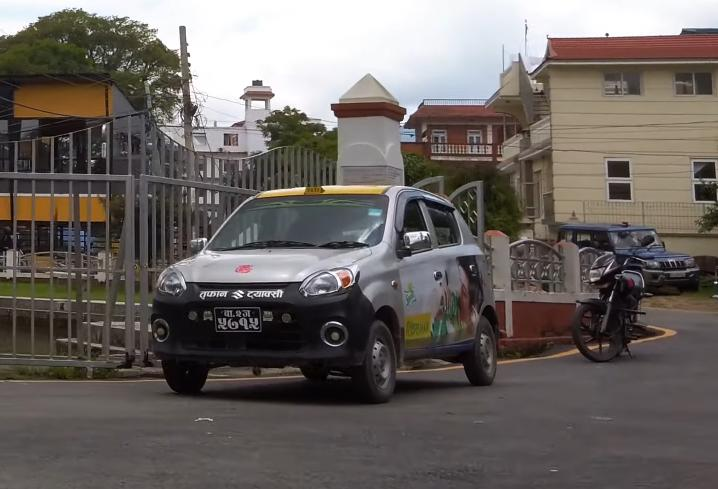bike: (574, 236, 662, 366)
taxi: (146, 176, 518, 409)
